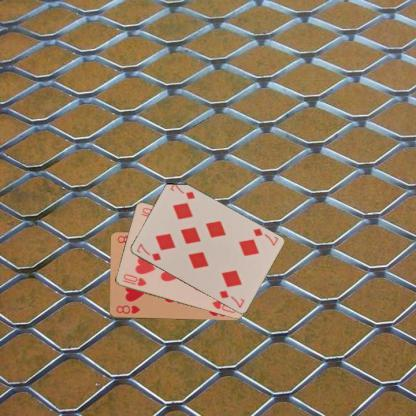10h: (121, 272, 148, 288)
7d: (133, 240, 162, 262), (250, 226, 279, 247)
8h: (113, 302, 141, 316)
